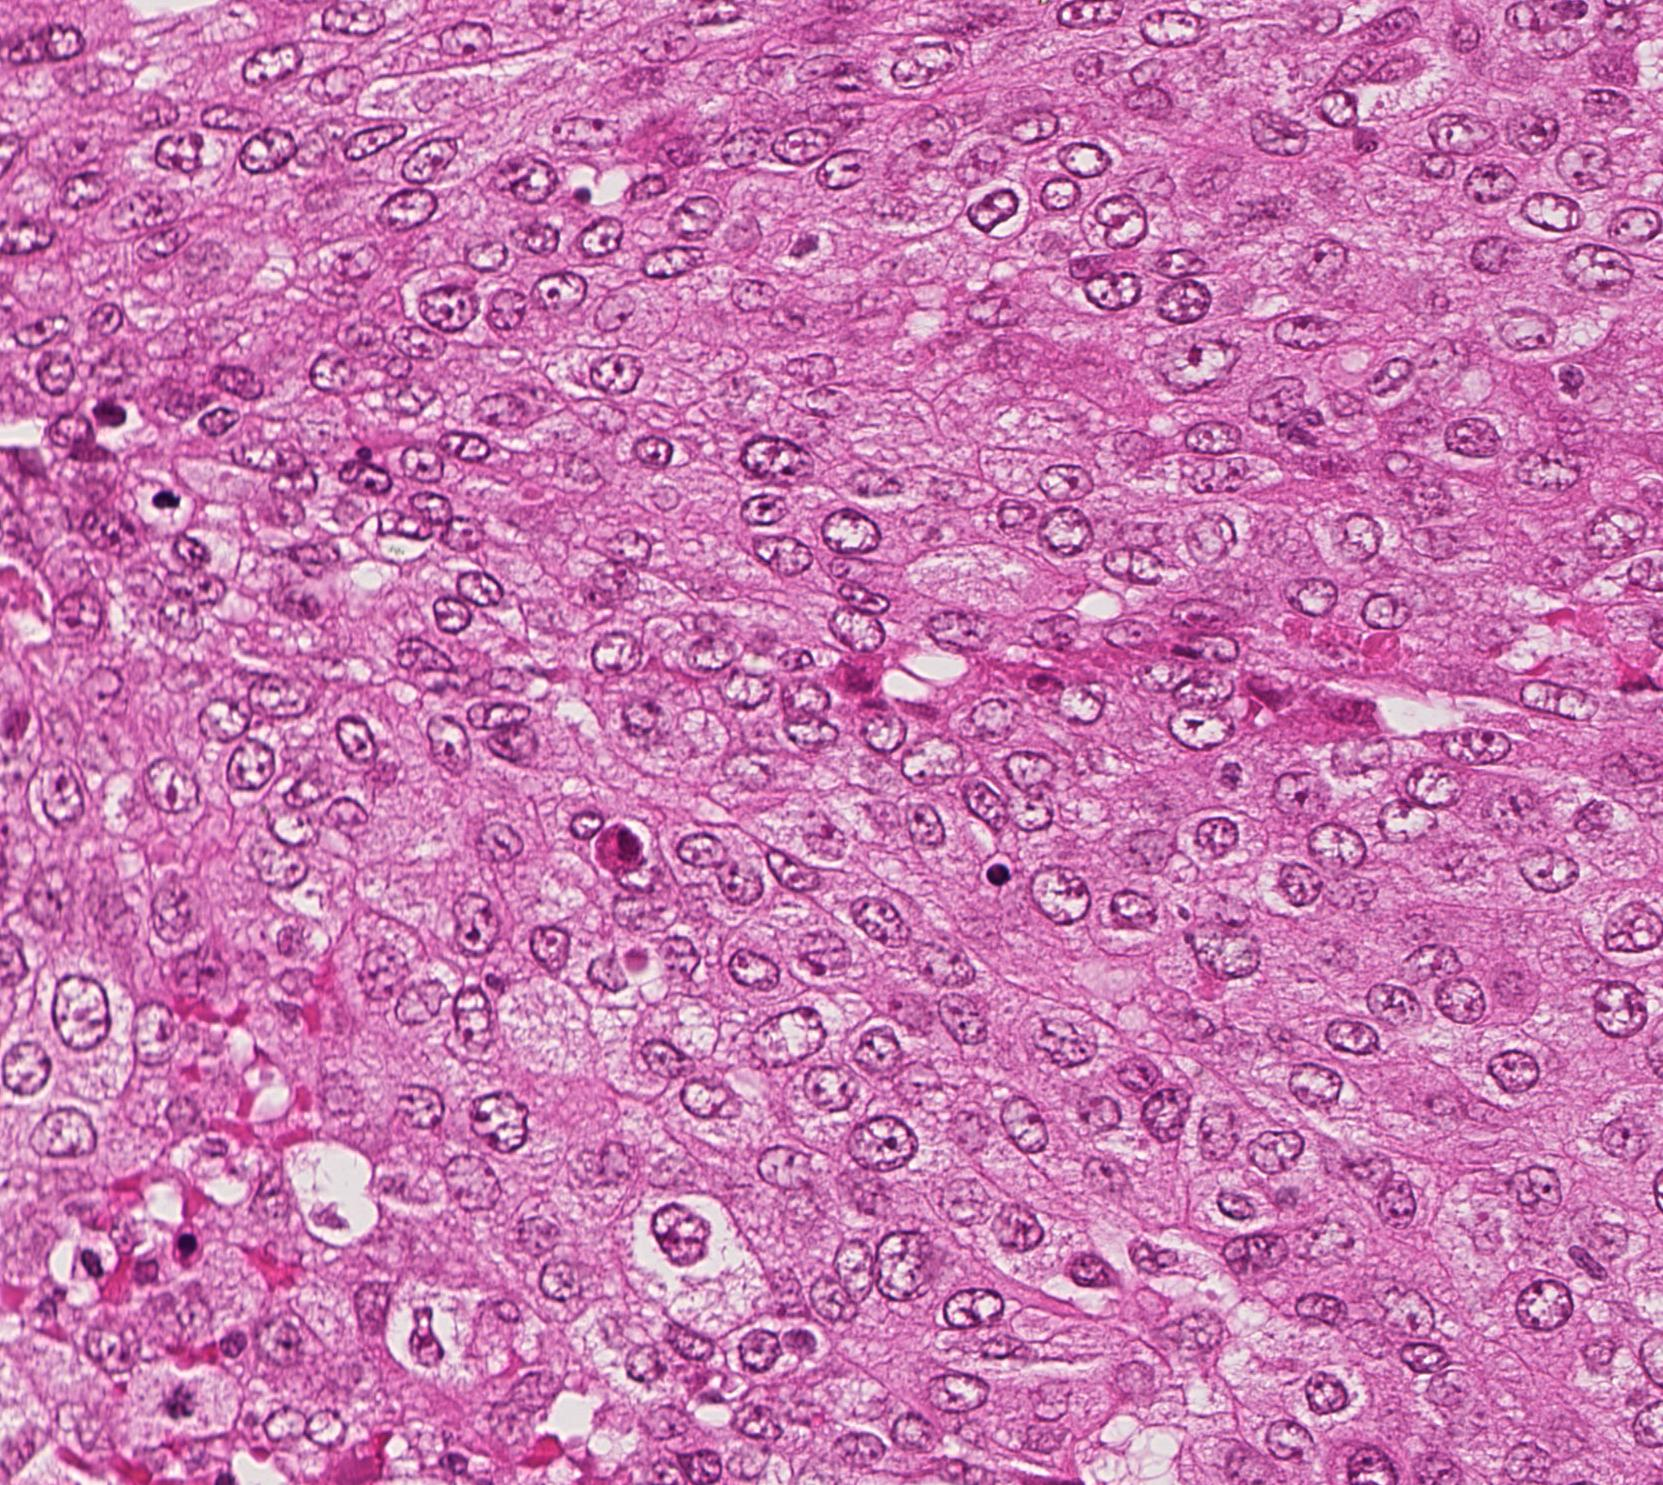mitosis: (133, 1365, 194, 1423)
